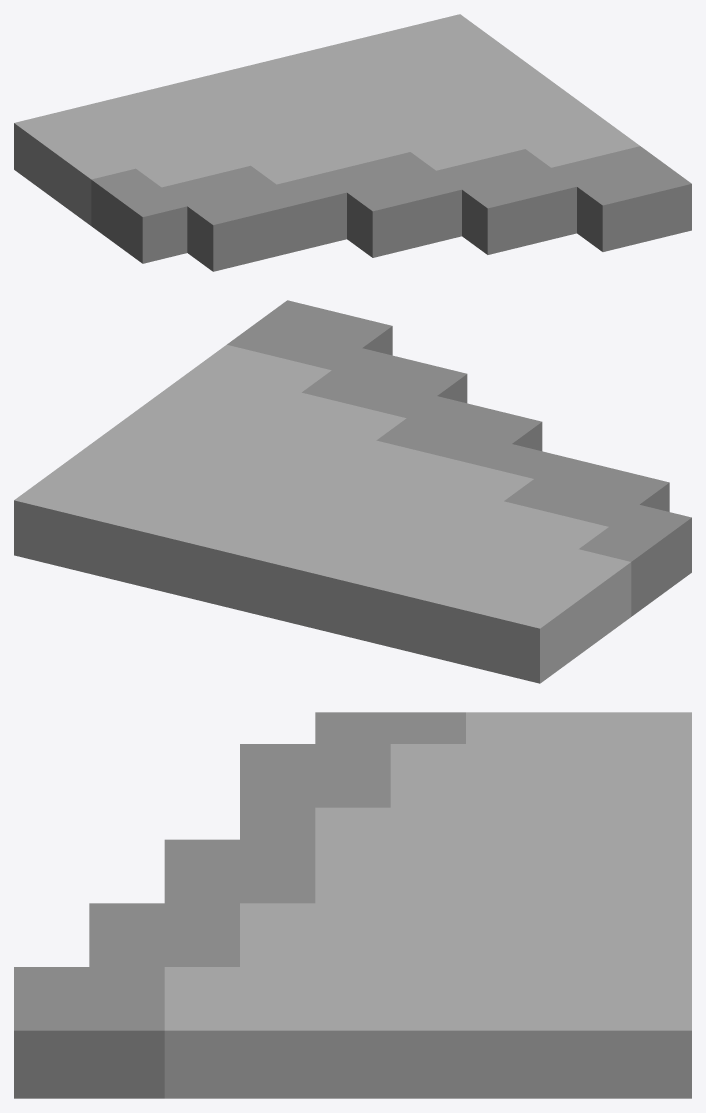
File: path_gray_diagonal_B_down.obj
3 views of the same model, one above another, from view 1: azimuth 30°, elevation 25°; view 2: azimuth 150°, elevation 25°; view 3: azimuth 270°, elevation 25° (orthographic). The views are drawn at different scales.
Bounding box in the file's own units: 1 × 0.1 × 0.9.
1 material, 1 textured.
